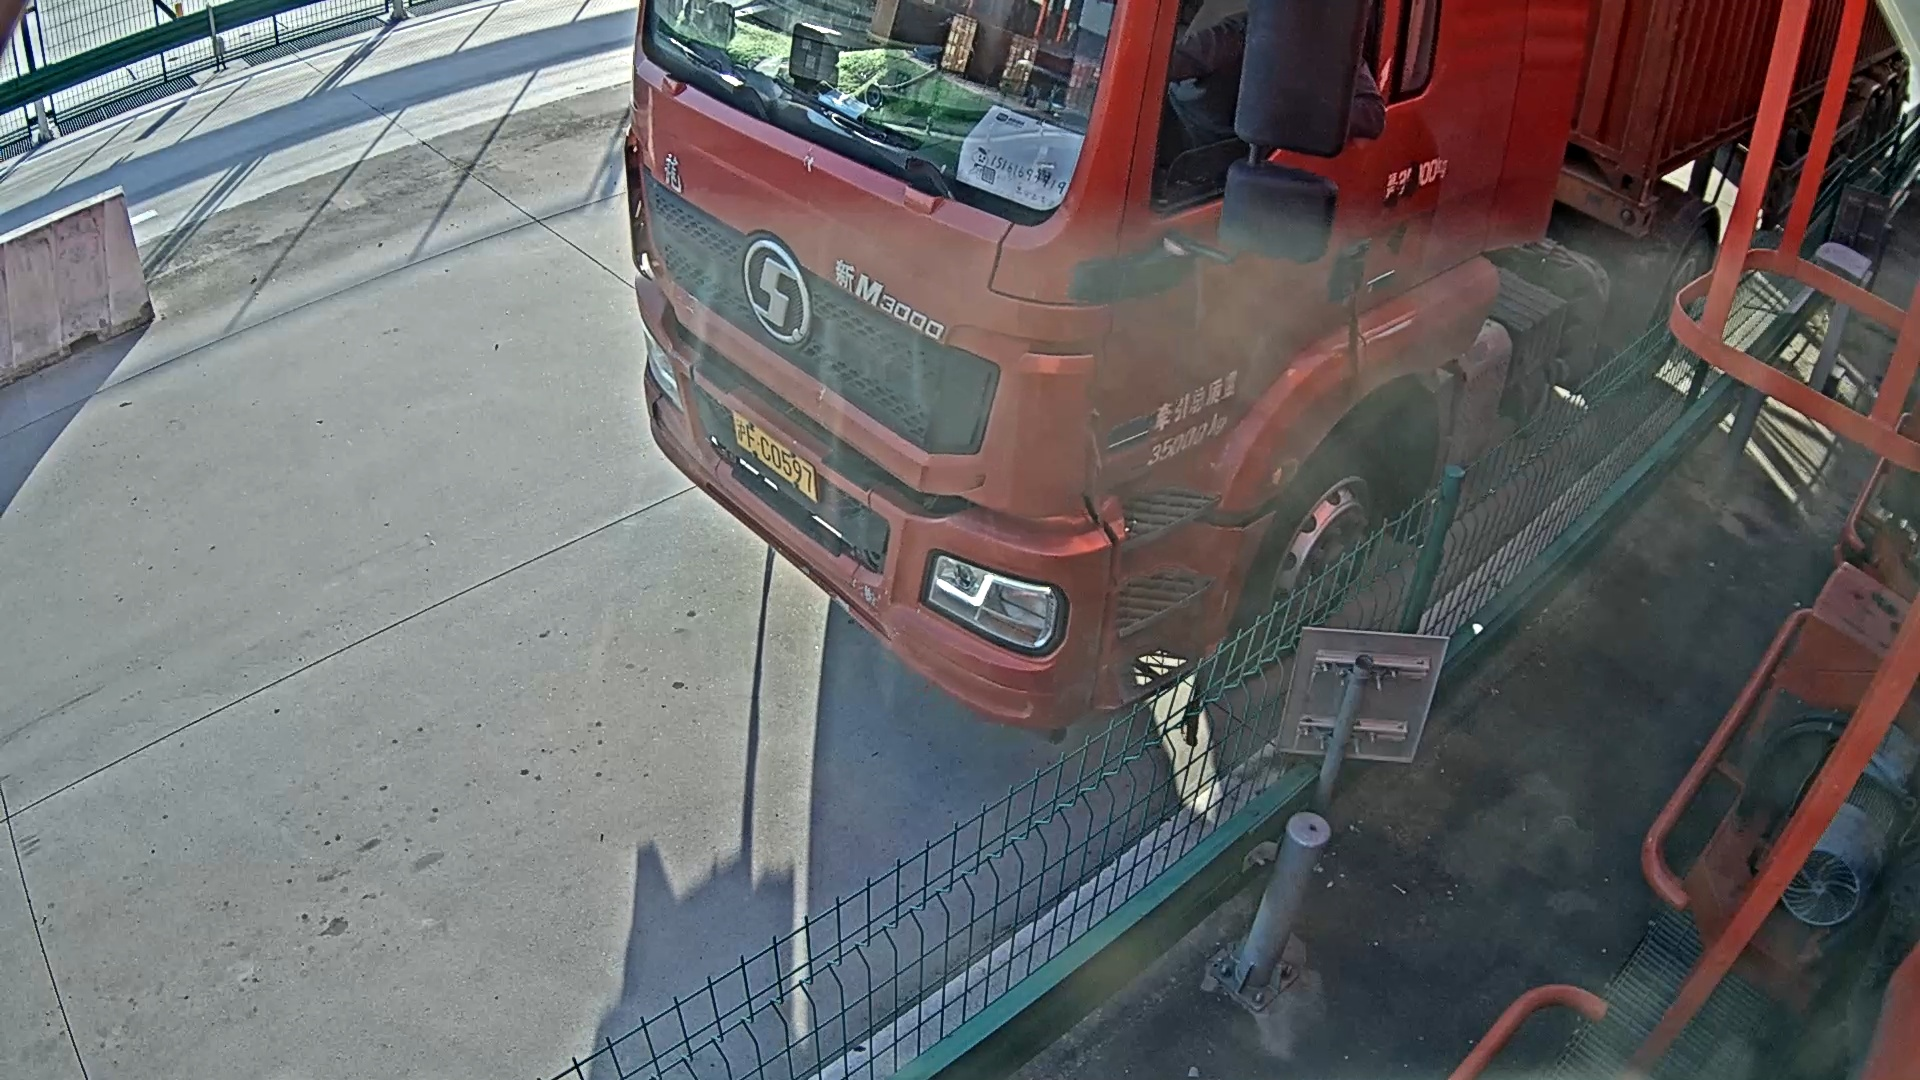head: (622, 4, 1312, 743)
plate: (725, 404, 842, 517)
